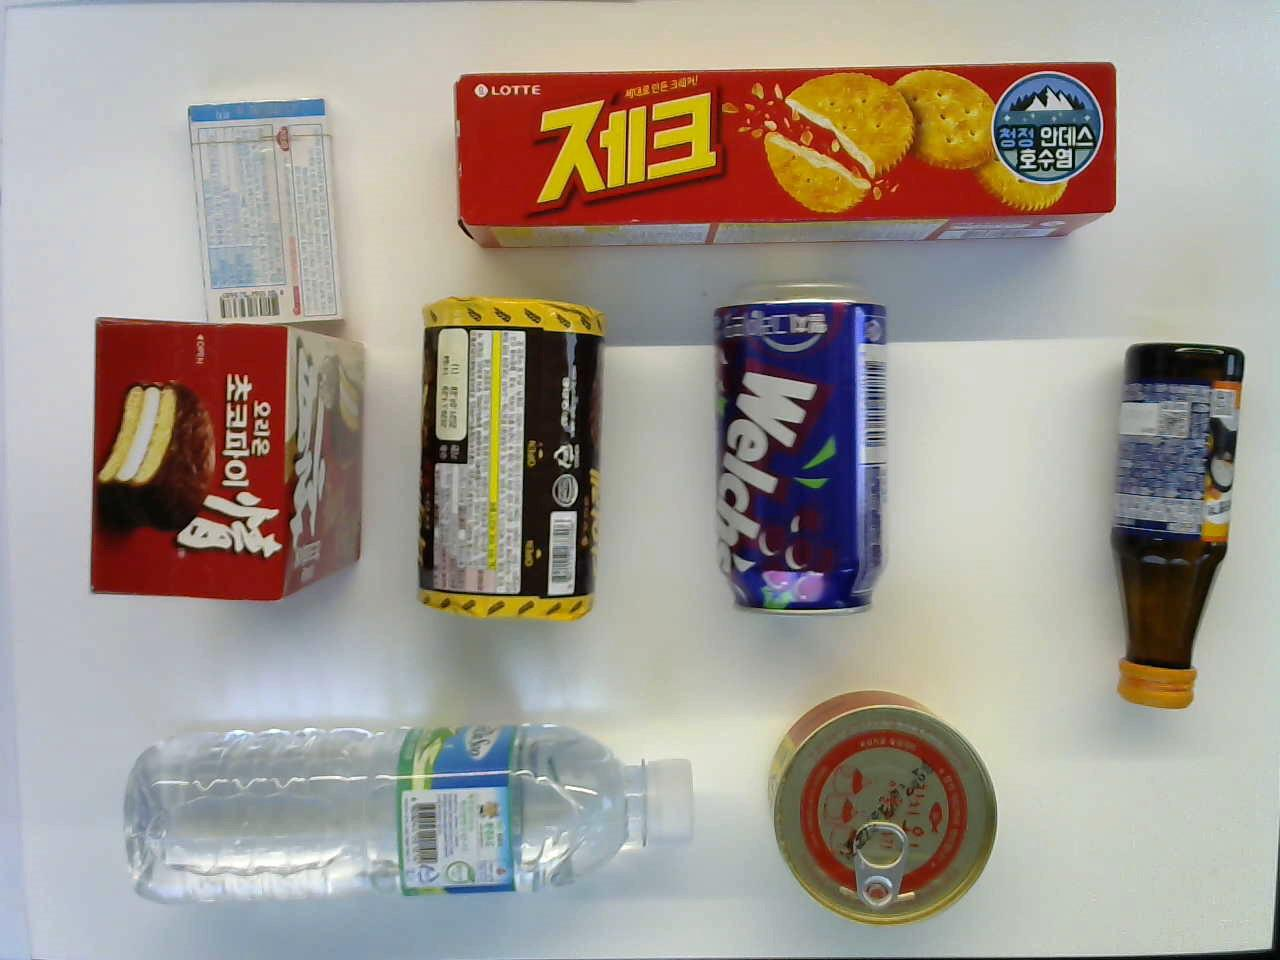ID_gum: (178, 89, 349, 332)
chocopie: (86, 309, 365, 603)
diget_choco: (411, 289, 609, 625)
samdasu: (117, 721, 701, 908)
tuna: (763, 687, 1001, 928)
vita500: (1104, 338, 1251, 715)
welchs: (703, 281, 893, 617)
zec: (446, 59, 1118, 254)
